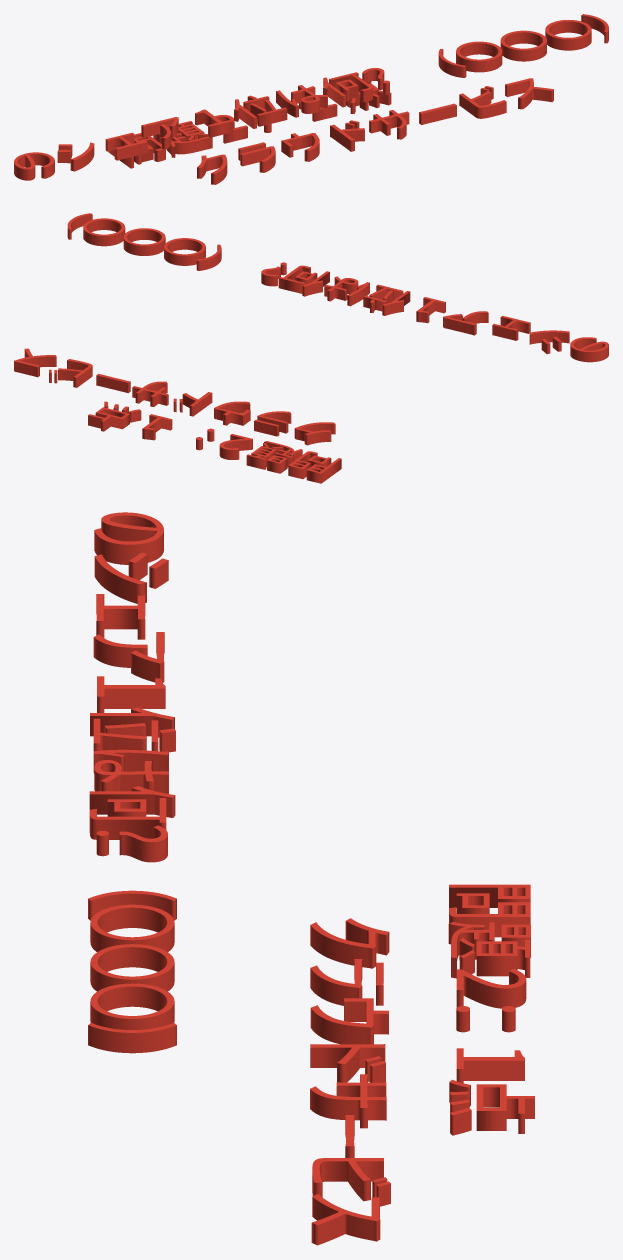
3 renders of one model, top to bottom at view 1: azimuth 30°, elevation 25°; view 2: azimuth 150°, elevation 25°; view 3: azimuth 270°, elevation 25°, orthographic. The views are drawn at different scales.
Visible parts, largest first — view 1: テキスト.003, テキスト.001, テキスト.002; view 2: テキスト.003, テキスト.001, テキスト.002; view 3: テキスト.003, テキスト.001, テキスト.002.
Part boxes in pixels (x1=…): テキスト.003: x1=14, y1=14, x2=608, y2=180; テキスト.001: x1=197, y1=78, x2=553, y2=184; テキスト.002: x1=108, y1=81, x2=391, y2=168; テキスト.003: x1=67, y1=213, x2=608, y2=362; テキスト.001: x1=14, y1=348, x2=335, y2=445; テキスト.002: x1=88, y1=401, x2=341, y2=483; テキスト.003: x1=88, y1=512, x2=176, y2=1053; テキスト.001: x1=310, y1=918, x2=390, y2=1245; テキスト.002: x1=448, y1=884, x2=534, y2=1135.
Size of the model in its own units: 13.23 by 2.52 by 4.79.
